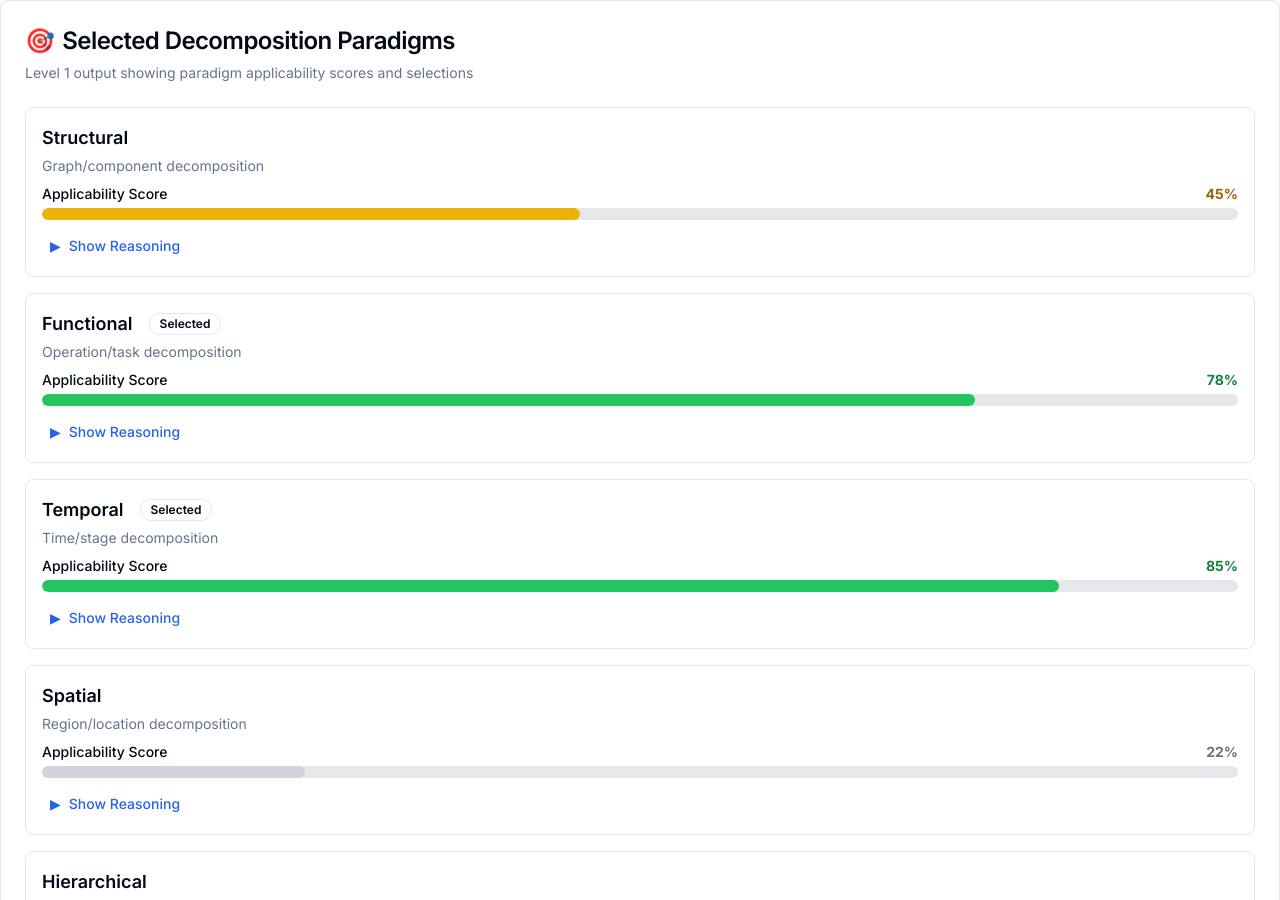
Test case: ParadigmSelectionViz › Reasoning Display › shows reasoning when "Show Reasoning" button is clicked
Click the button "▶ Show Reasoning" below "Graph/component decomposition".
click(115, 246)  # box x1=42 y1=232 x2=188 y2=260
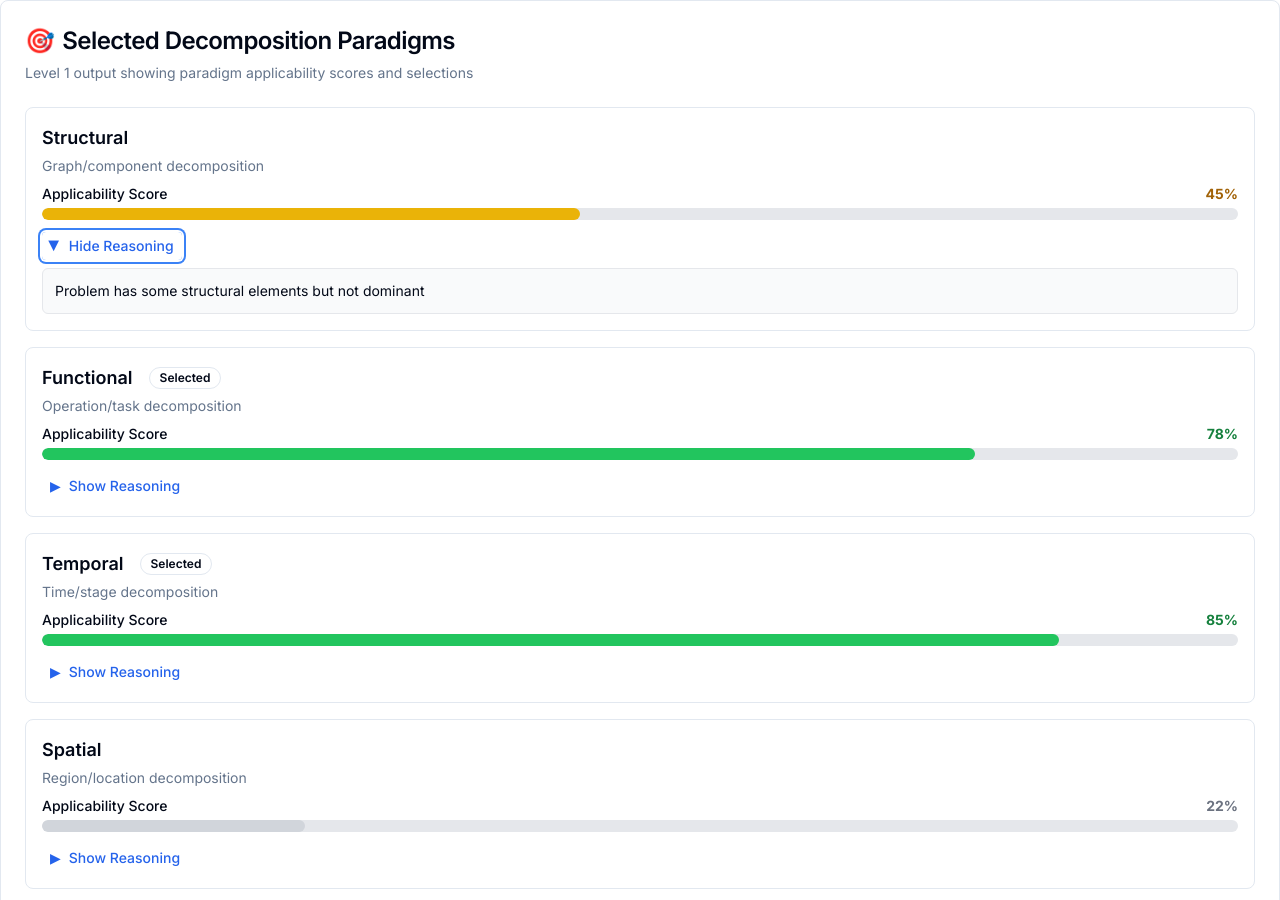
Expected: the text "Problem has some structural elements but not dominant" is shown, x1=42 y1=268 x2=1238 y2=314
